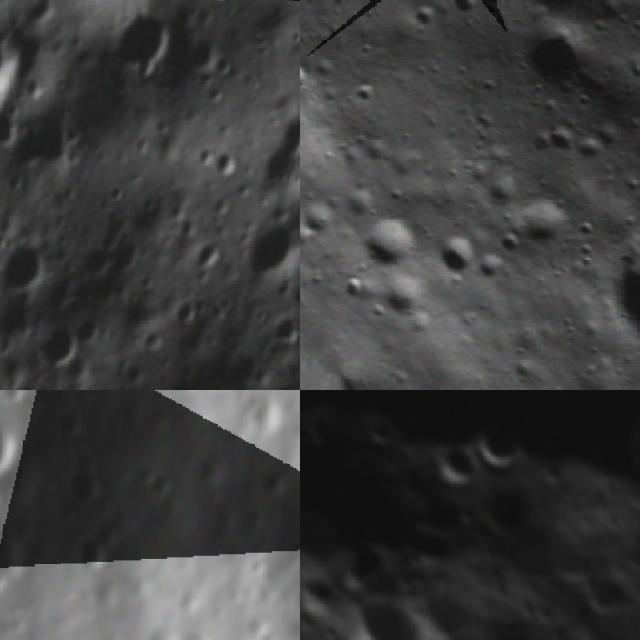crater: (582, 181, 640, 380), (511, 6, 608, 102), (101, 0, 195, 94), (0, 0, 46, 157), (330, 582, 447, 640), (228, 202, 300, 296), (350, 201, 432, 279), (563, 557, 640, 640), (508, 181, 585, 256), (462, 413, 536, 488), (0, 229, 62, 306), (26, 314, 91, 382), (417, 436, 482, 498), (431, 218, 491, 278), (568, 119, 620, 172), (57, 453, 106, 508), (182, 29, 229, 83), (537, 110, 582, 156), (0, 411, 23, 488), (71, 531, 109, 577), (492, 220, 533, 262), (524, 0, 597, 20), (146, 468, 182, 508), (625, 466, 640, 535), (474, 0, 526, 17), (445, 0, 488, 20), (300, 52, 318, 98), (200, 0, 246, 17), (486, 630, 535, 640), (256, 628, 282, 640)
